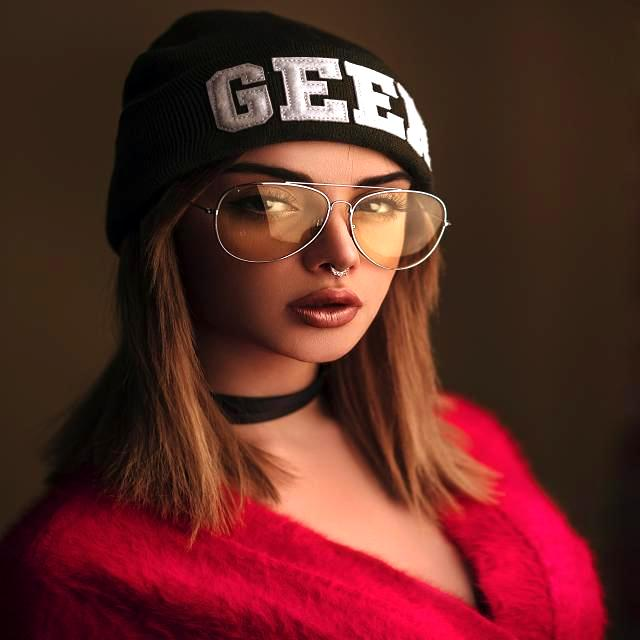no_hard_hat: (106, 10, 431, 254)
person: (2, 13, 604, 640)
